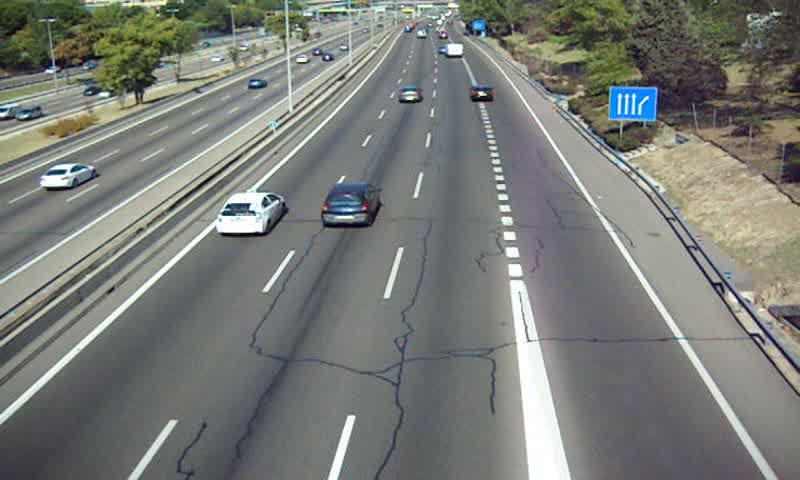car: (216, 192, 285, 234), (323, 184, 380, 226), (399, 86, 423, 104), (468, 86, 494, 101)
van: (445, 44, 464, 56)
